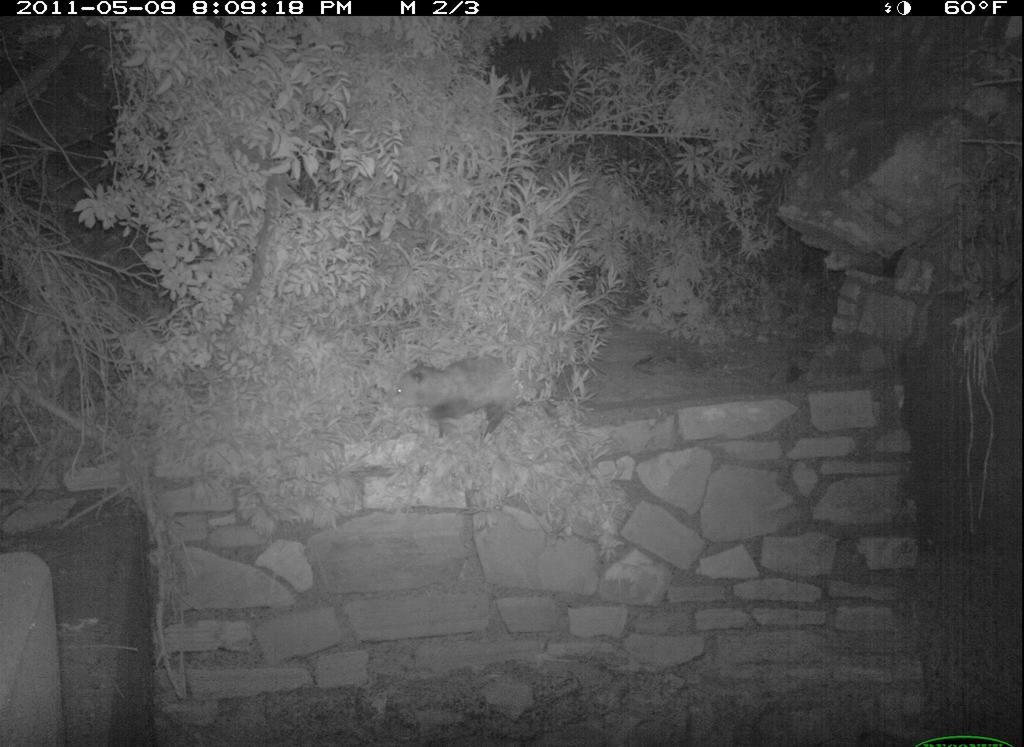opossum: (370, 354, 587, 443)
